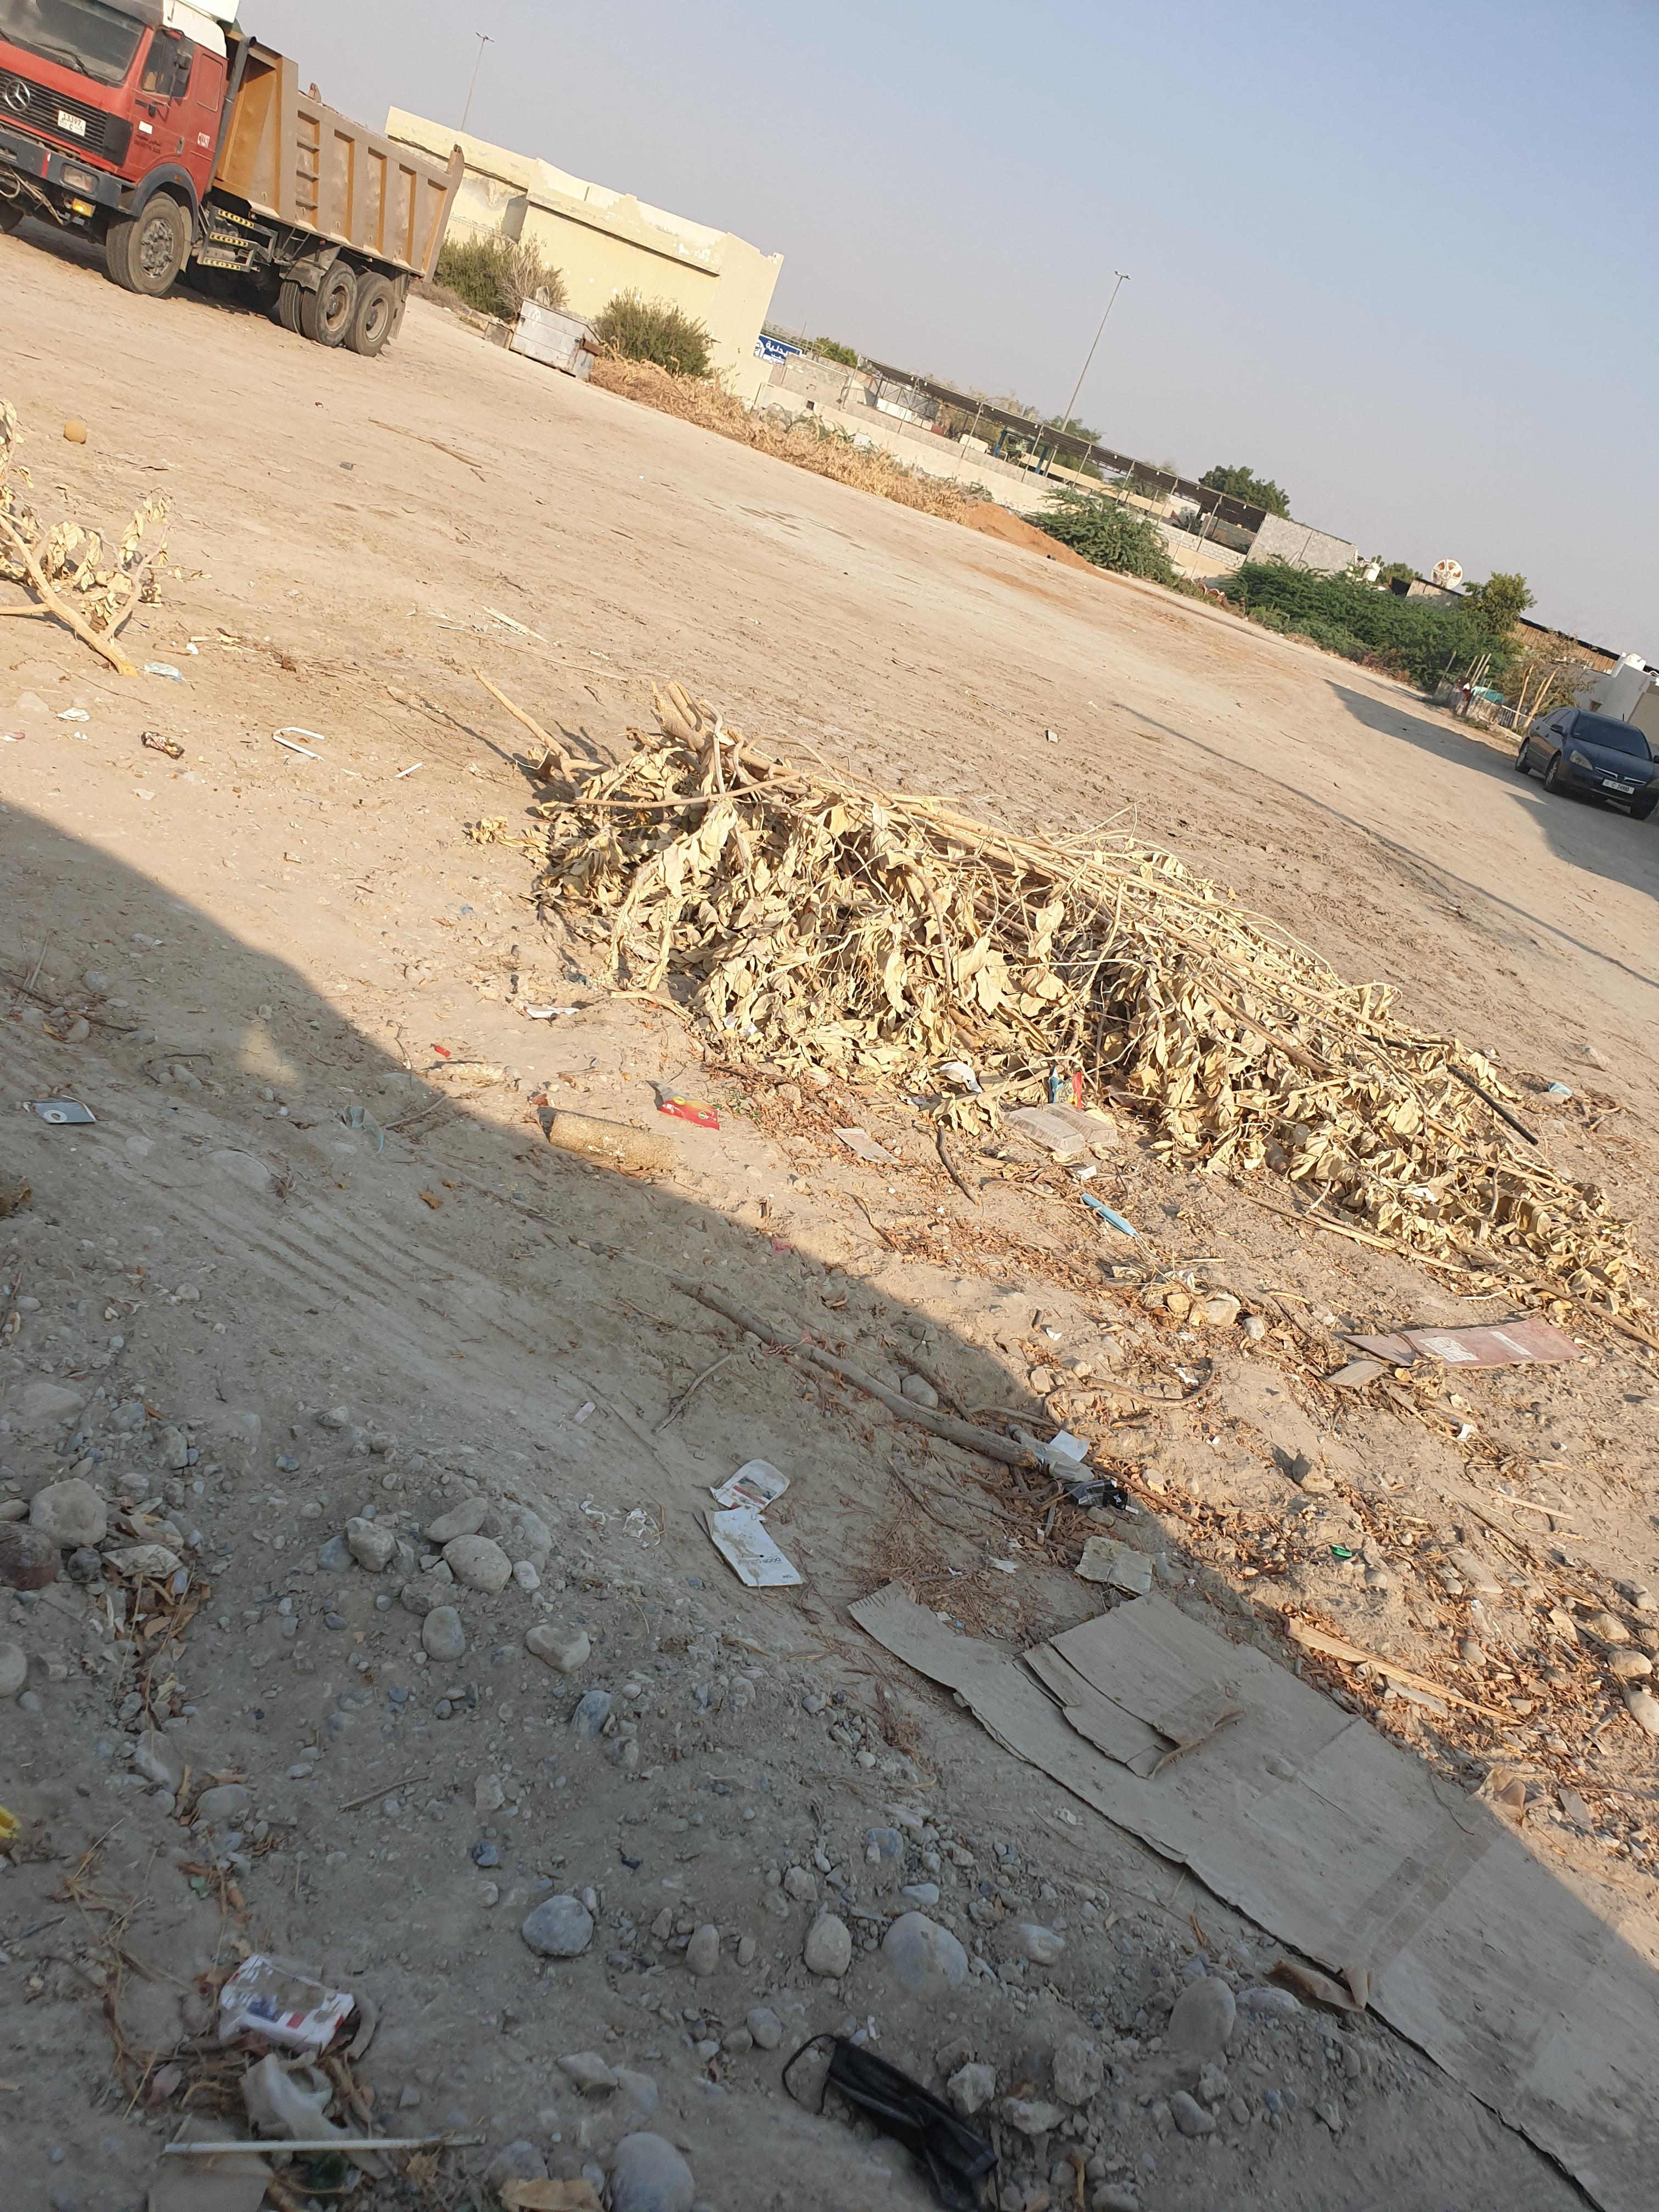fallen_trees: (481, 678, 1647, 1296), (467, 573, 1295, 1038), (446, 745, 1279, 1165), (1096, 914, 1584, 1426), (0, 437, 270, 704)
